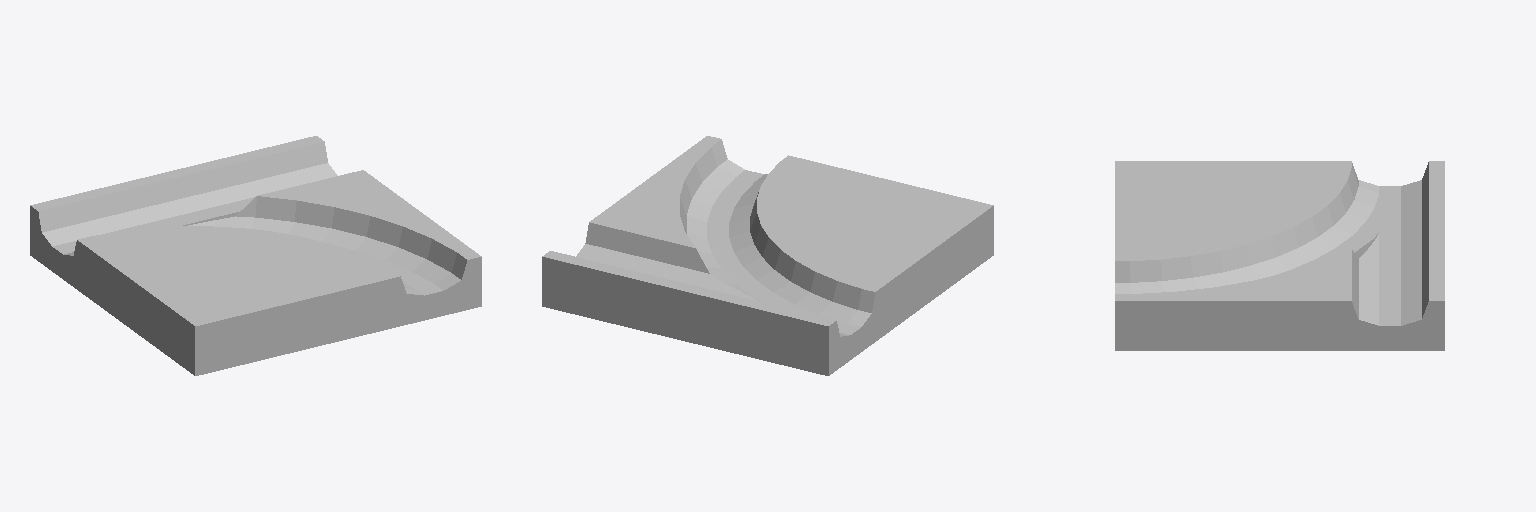
Rendered from split-large-solid-right.obj.
3 views of the same model, side by side, from view 1: azimuth 30°, elevation 25°; view 2: azimuth 150°, elevation 25°; view 3: azimuth 270°, elevation 25° (orthographic).
Parts seen in each view (by area): view 1: split-large-solid-right; view 2: split-large-solid-right; view 3: split-large-solid-right.
Boxes of the visible parts, box(x1,y1,x2,y2) form: split-large-solid-right: box(30, 136, 481, 375); split-large-solid-right: box(542, 136, 993, 375); split-large-solid-right: box(1115, 161, 1444, 350).
Size of the model in its own units: 3 by 0.5 by 3.